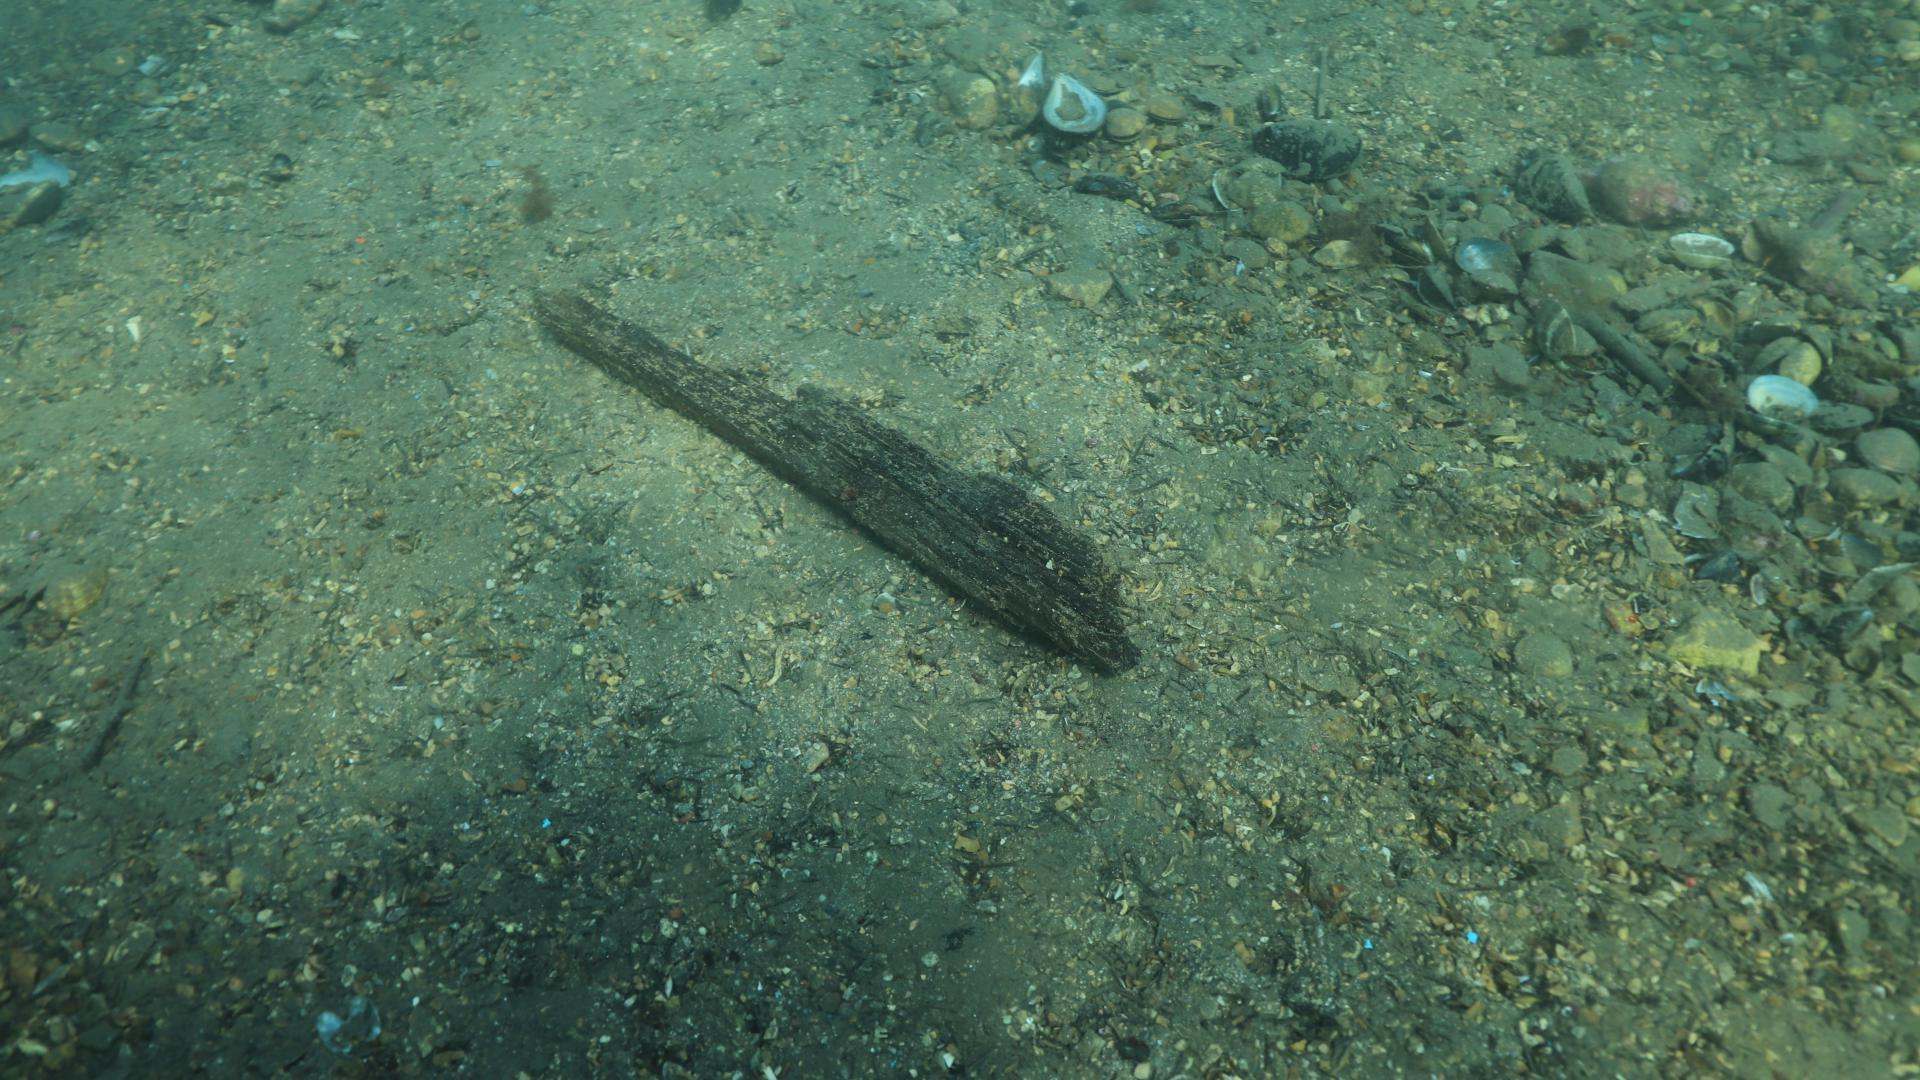wood: (530, 290, 1145, 676)
